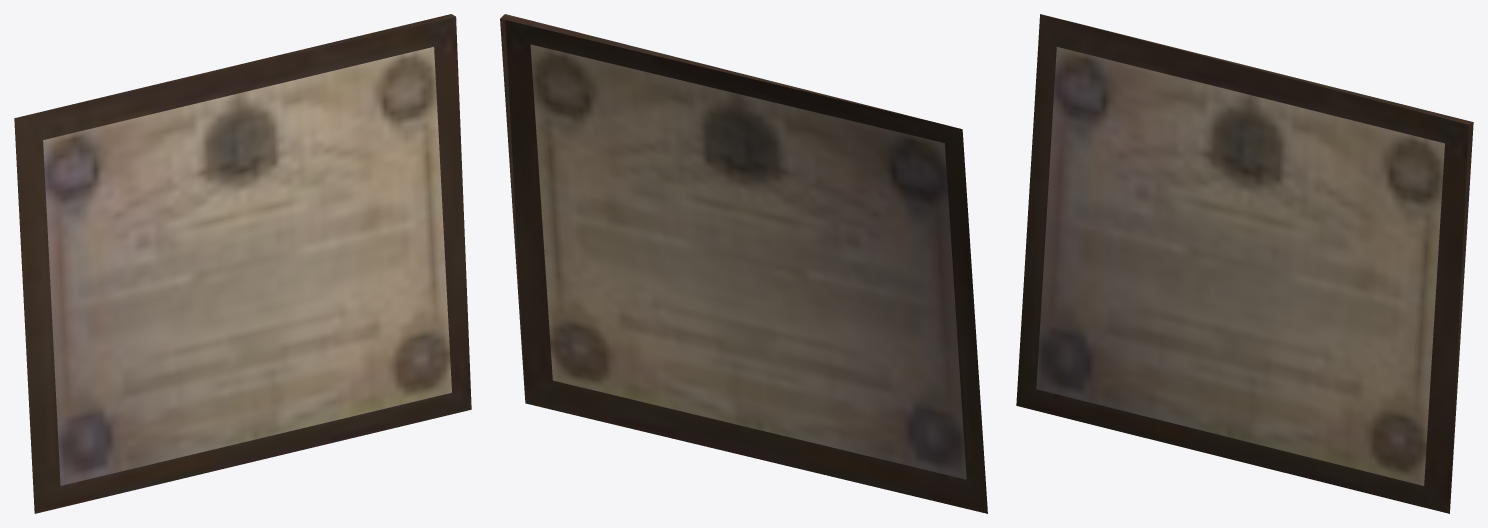
File: certificate-3.lod1.glb
3 renders of one model, left to right at view 1: azimuth 30°, elevation 25°; view 2: azimuth 150°, elevation 25°; view 3: azimuth 330°, elevation 25°, orthographic. The views are drawn at different scales.
Parts seen in each view (by area): view 1: certificate-3; view 2: certificate-3; view 3: certificate-3.
Boxes of the visible parts, x1,y1,x2,y2 form: certificate-3: (14,14,471,513); certificate-3: (500,14,987,513); certificate-3: (1016,14,1473,513).
Bounding box in the file's own units: 0.3012 × 0.2502 × 0.0302.
1 material, 1 textured.
